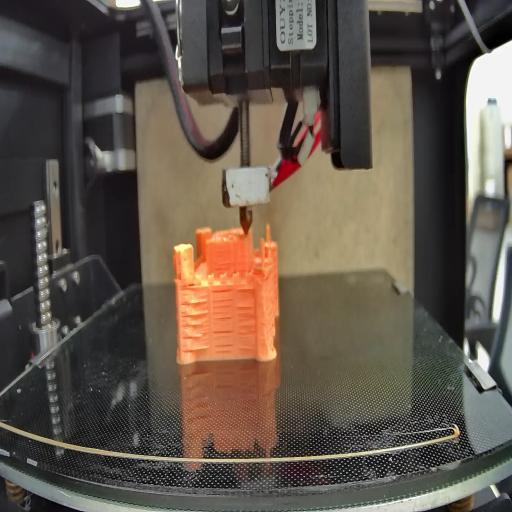cracks: (180, 300, 210, 352), (236, 306, 256, 352), (211, 288, 234, 324), (211, 328, 233, 356), (213, 259, 233, 273), (236, 284, 256, 293), (185, 278, 199, 290)
